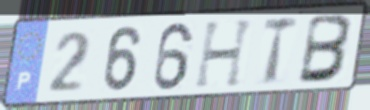2: (46, 29, 94, 95)
6: (151, 20, 197, 93), (102, 24, 144, 94)
B: (295, 12, 356, 86)
H: (192, 16, 258, 91)
T: (260, 14, 301, 87)
